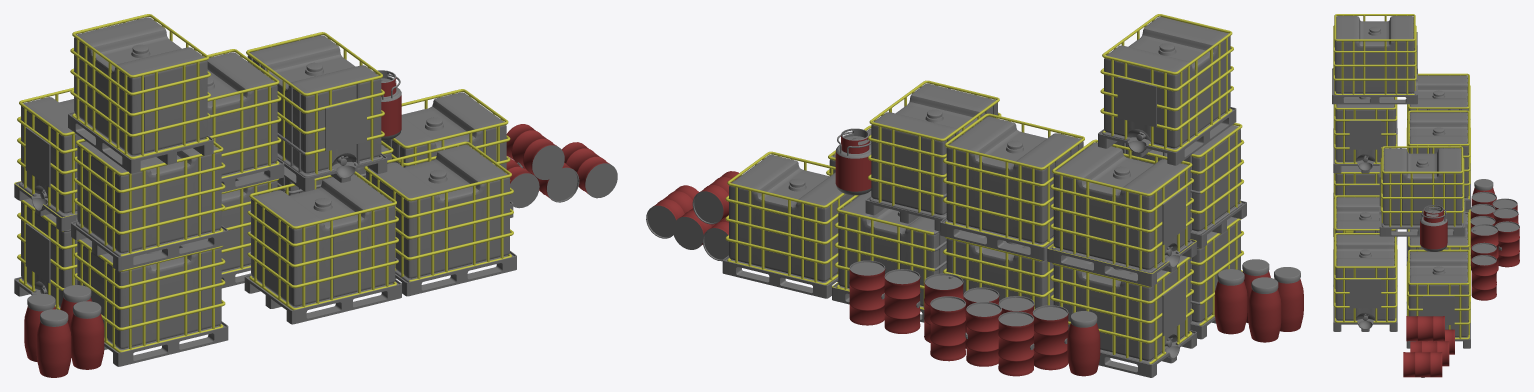
The model's file is sarıdemirli_kutubarrel.fbx.
3 renders of one model, left to right at view 1: azimuth 30°, elevation 25°; view 2: azimuth 150°, elevation 25°; view 3: azimuth 270°, elevation 25°, orthographic. The views are drawn at different scales.
Parts seen in each view (by area): view 1: polySurface9; view 2: polySurface9; view 3: polySurface9.
Boxes of the visible parts, x1=… form: polySurface9: x1=14, y1=14, x2=617, y2=377; polySurface9: x1=646, y1=14, x2=1303, y2=377; polySurface9: x1=1332, y1=14, x2=1519, y2=377.
Bounding box in the file's own units: 893 × 396 × 350.
